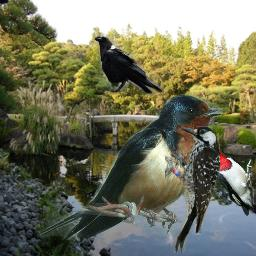Crow: (94, 33, 164, 96)
Swallow: (37, 94, 223, 240)
Woodpecker: (165, 126, 220, 253), (194, 150, 256, 216)
